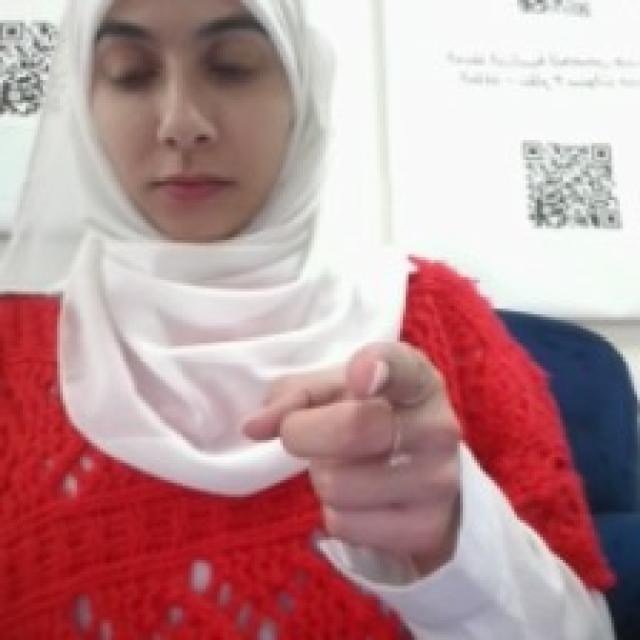you: (237, 332, 466, 574)
